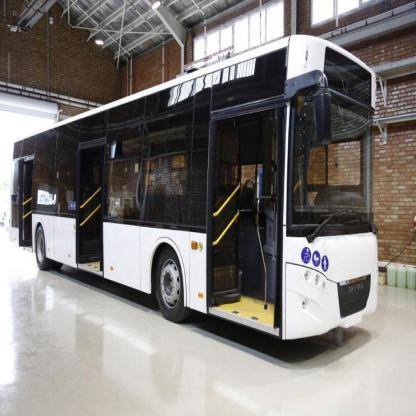Bus: (6, 32, 384, 355)
